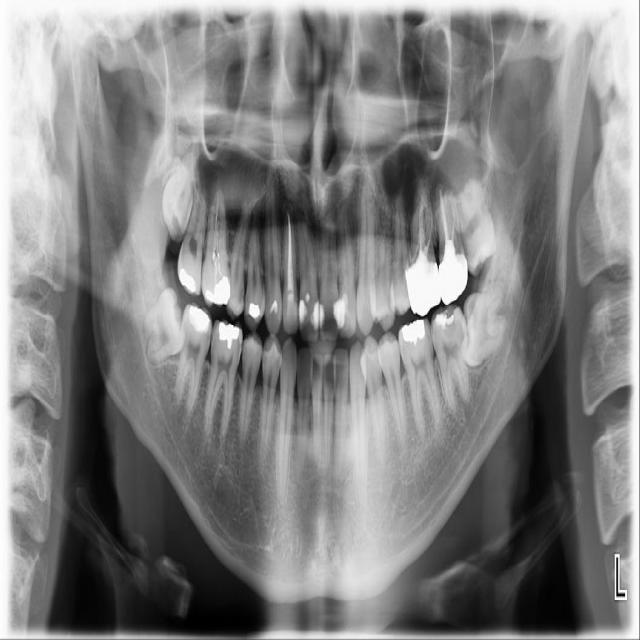Crown: (405, 257, 442, 316), (438, 240, 469, 305)
Filling: (430, 303, 466, 350), (298, 286, 320, 342), (318, 287, 340, 342), (202, 269, 231, 305), (282, 287, 300, 335), (265, 290, 283, 336), (215, 322, 242, 351), (399, 321, 426, 346), (187, 305, 210, 332), (178, 267, 197, 291), (245, 299, 263, 319)
Root Canal Treatment: (212, 190, 218, 272), (286, 212, 292, 294), (437, 191, 447, 238), (426, 200, 432, 248), (418, 204, 424, 250), (450, 194, 456, 238)
impacted tooth: (462, 272, 510, 368), (157, 136, 198, 239), (136, 290, 183, 364)
